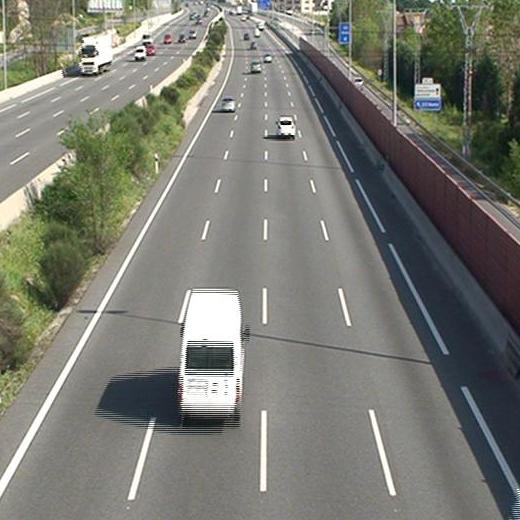car: (276, 116, 295, 137), (221, 98, 236, 111), (250, 61, 261, 72), (263, 53, 271, 61)
van: (177, 290, 244, 420)
